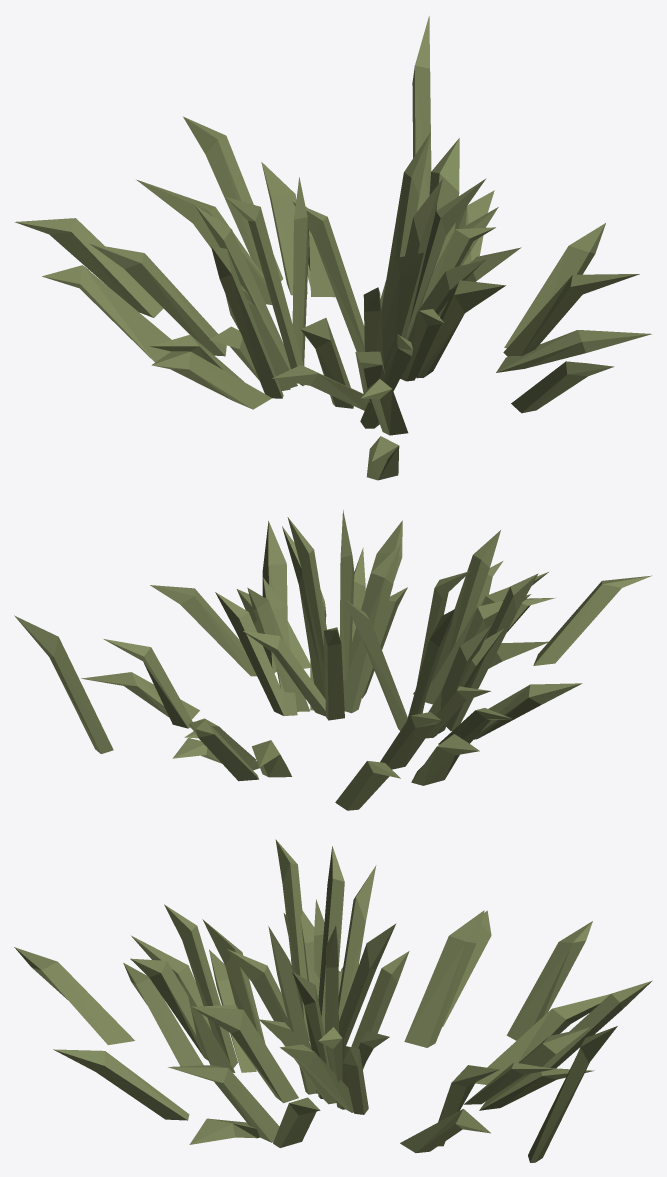
The model's file is apoc_SM_Generic_Grass_Patch_02.gltf.
The picture shows the model from 3 angles, top to bottom: view 1: azimuth 30°, elevation 25°; view 2: azimuth 150°, elevation 25°; view 3: azimuth 270°, elevation 25°; orthographic projection. The views are drawn at different scales.
Parts seen in each view (by area): view 1: SM_Generic_Grass_Patch_02; view 2: SM_Generic_Grass_Patch_02; view 3: SM_Generic_Grass_Patch_02.
Boxes of the visible parts, bbox=[...] form: SM_Generic_Grass_Patch_02: bbox=[15, 16, 651, 480]; SM_Generic_Grass_Patch_02: bbox=[14, 510, 651, 810]; SM_Generic_Grass_Patch_02: bbox=[14, 839, 652, 1162].
Size of the model in its own units: 2.16 by 0.92 by 2.81.
Materials: 1 (1 with a texture image).
